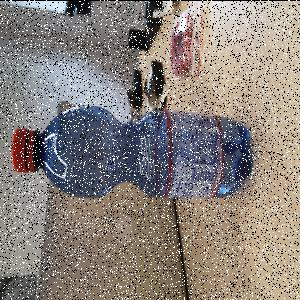Plastic-bottle: (11, 104, 255, 201)
